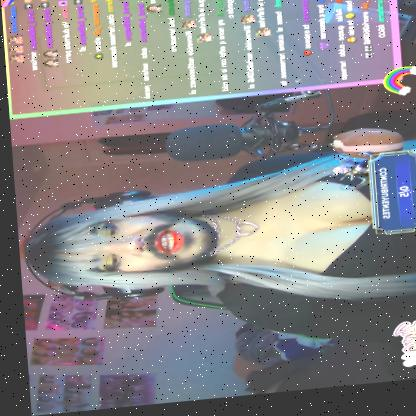streamer: (12, 122, 416, 368)
